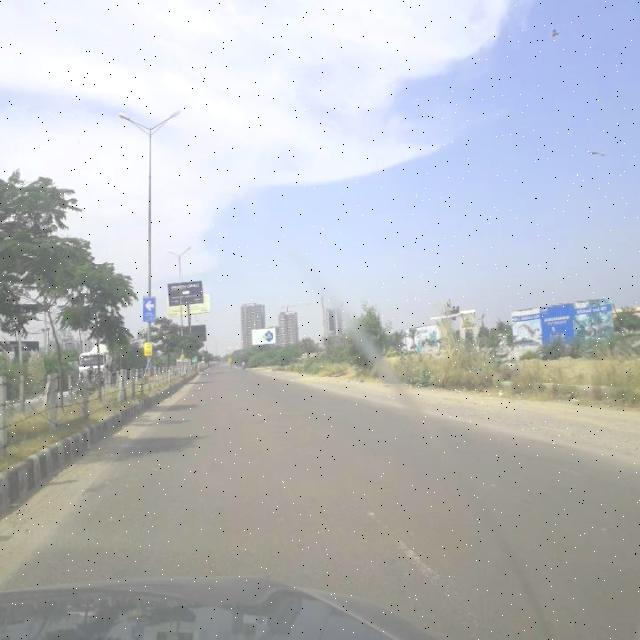D44: (366, 510, 462, 604)
